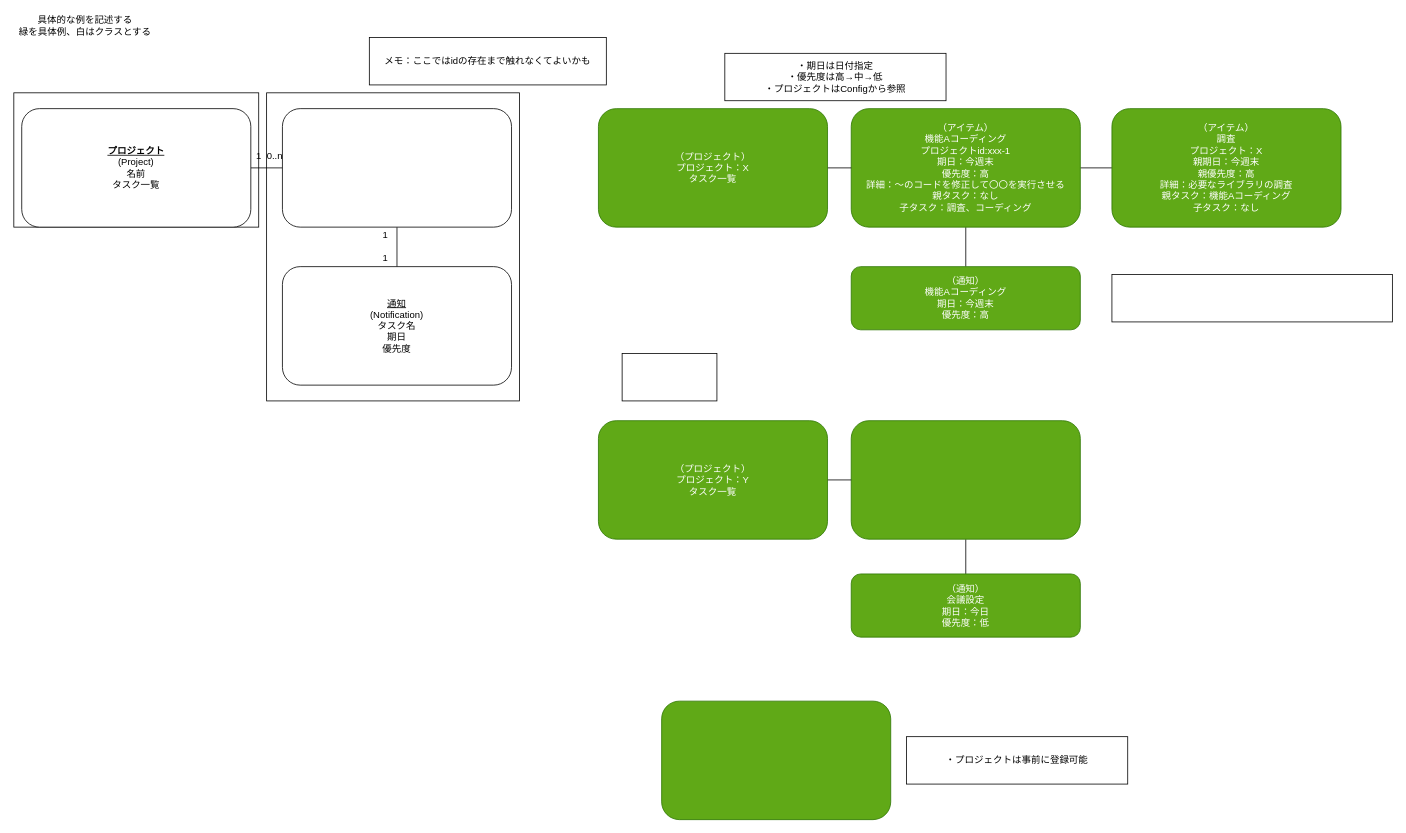
Some shapes in this 1406 by 833 pixel diagram are drawn without their labels. Here are the shapes that lost their labels. From the top down, the centre of each, then its label:
the point at 397,167: アイテム (Task) タスク名 プロジェクトid 期日 優先度 詳細 親子関係
the point at 1251,298: ・子アイテムのプロジェクト、期日、優先度は親から参照
the point at 669,377: あくまでメインはタスクであり、プロジェクトクラスは
the point at 965,479: （アイテム） 会議設定 プロジェクトid:yyy-1 期日：今日 優先度：低 詳細：～についての会議を設定 子タスク：なし
the point at 776,760: （Config） プロジェクト一覧：X、Y
